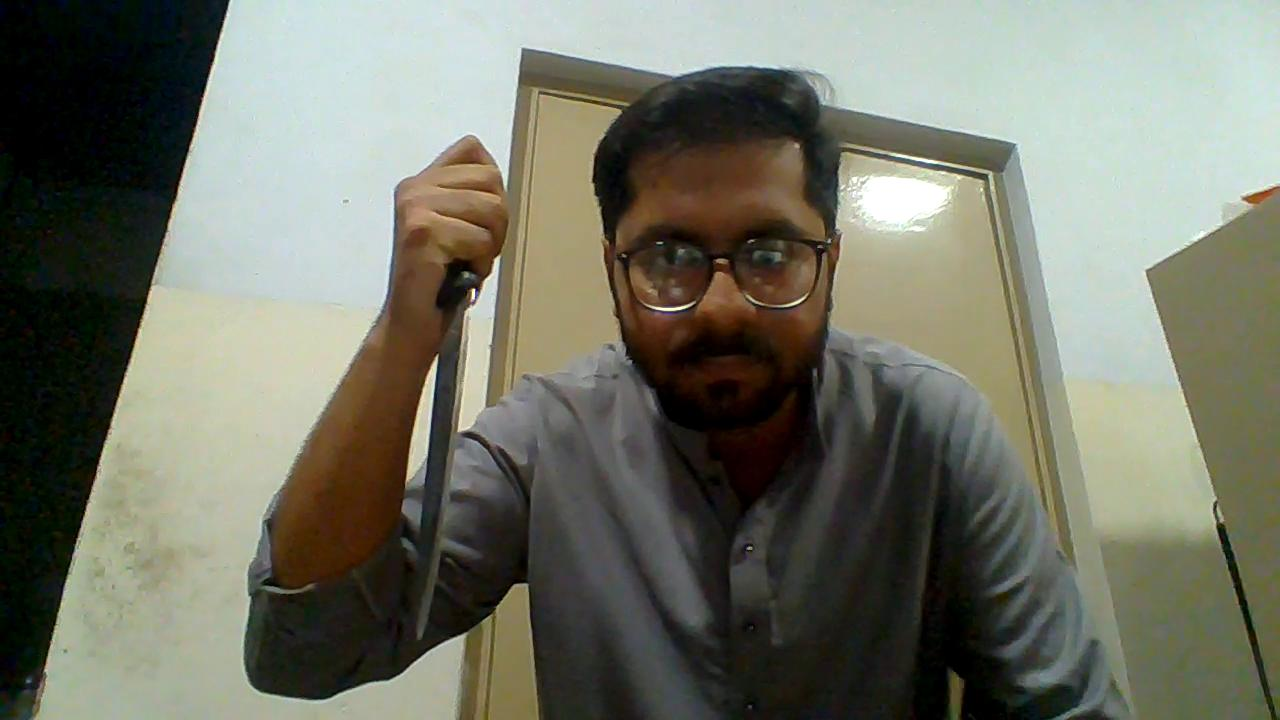criminal: (244, 63, 1124, 720)
weapon: (405, 260, 483, 647)
